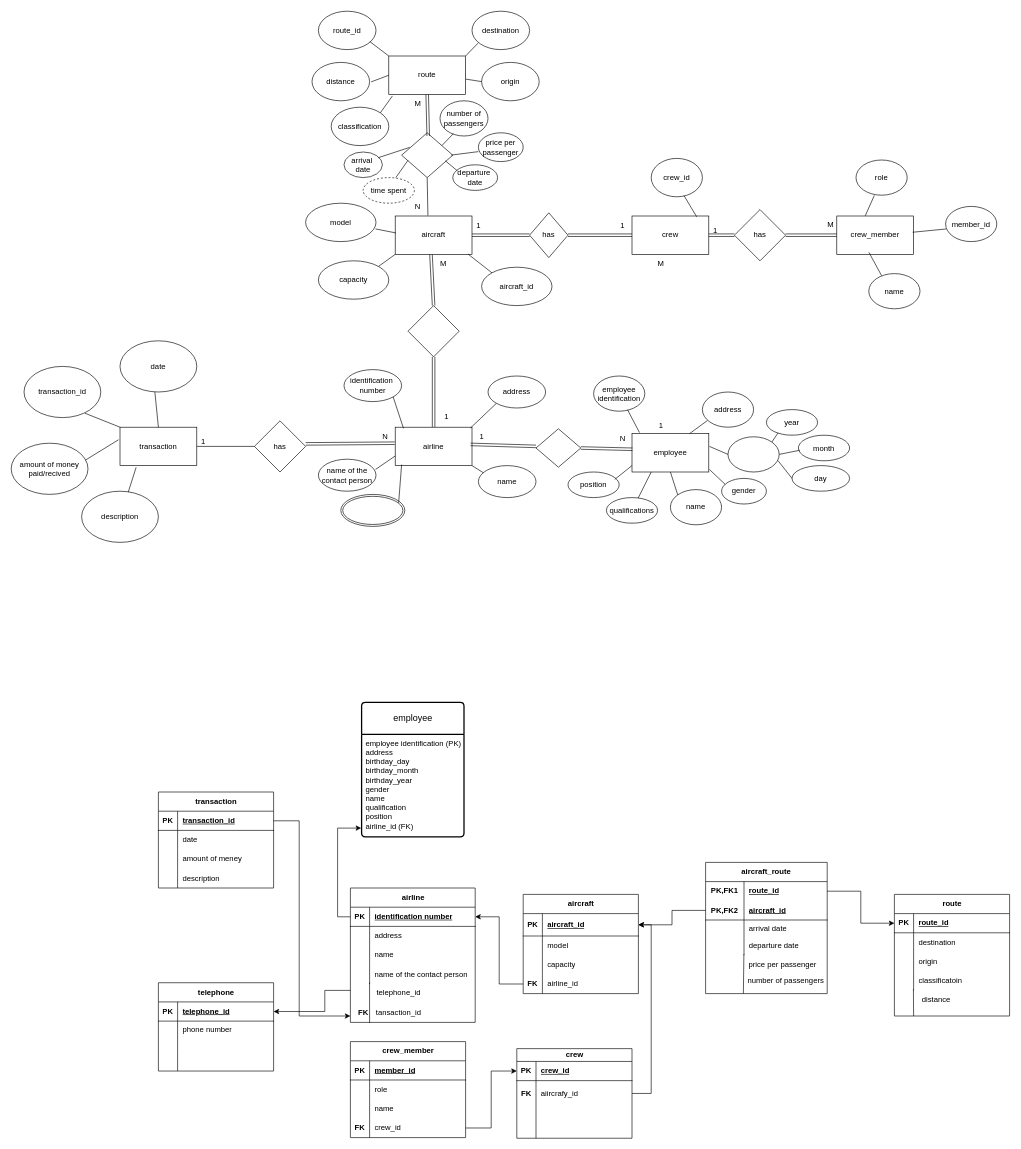
This 1021x1149 diagram has some shape labels left out. Here are the shapes that lost their labels. From the top down, the centre of each, then its label:
At [427,155]: "assigned to".
At [433,331]: "own".
At [558,447]: "work".
At [753,454]: "birthday".
At [372,510]: "telephone numbers".
